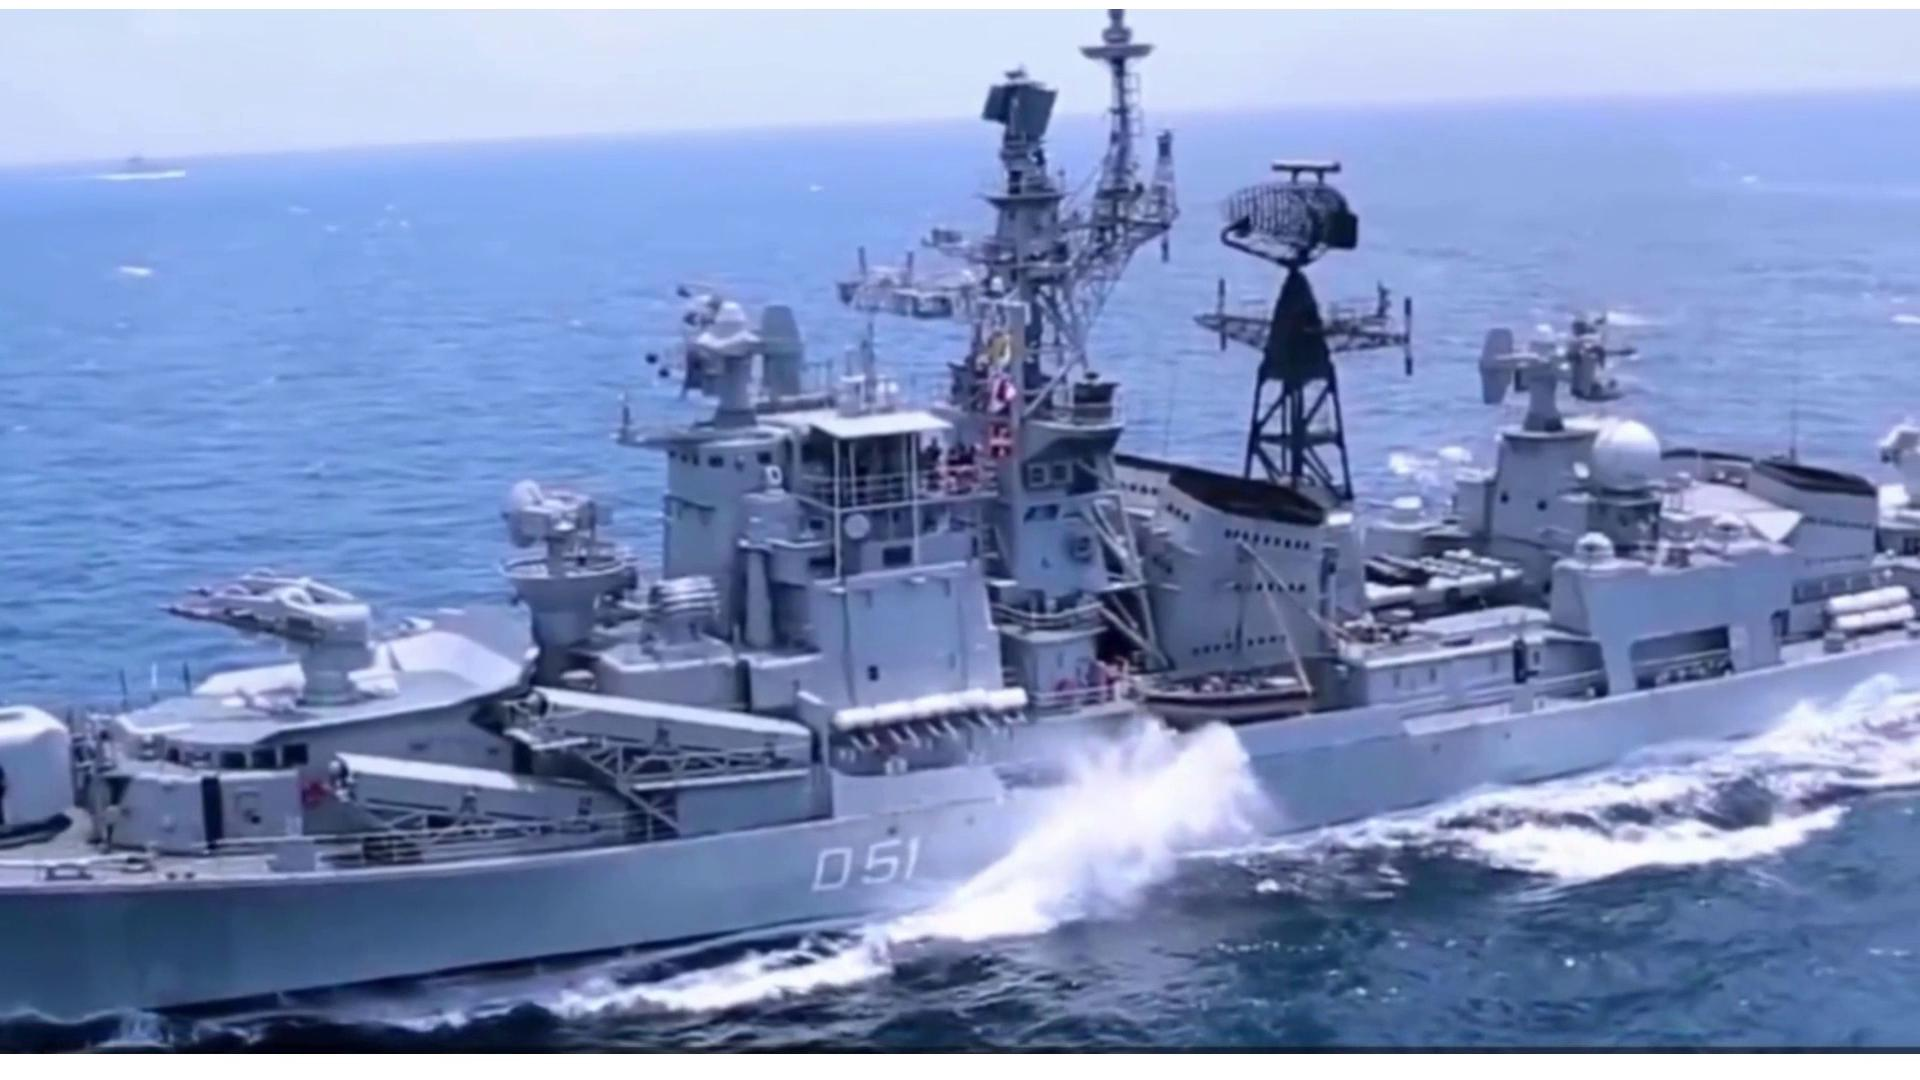OCR: (793, 820, 943, 906)
